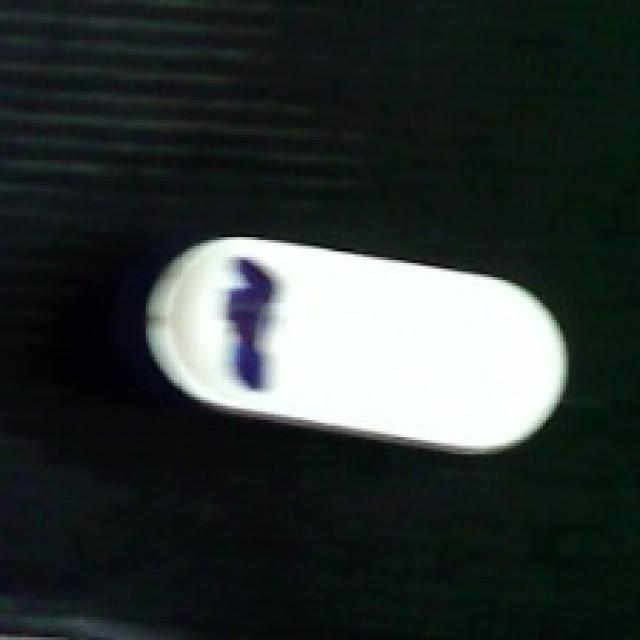defected: (132, 235, 572, 454)
